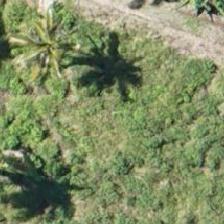coconut_tree: (6, 3, 96, 93)
